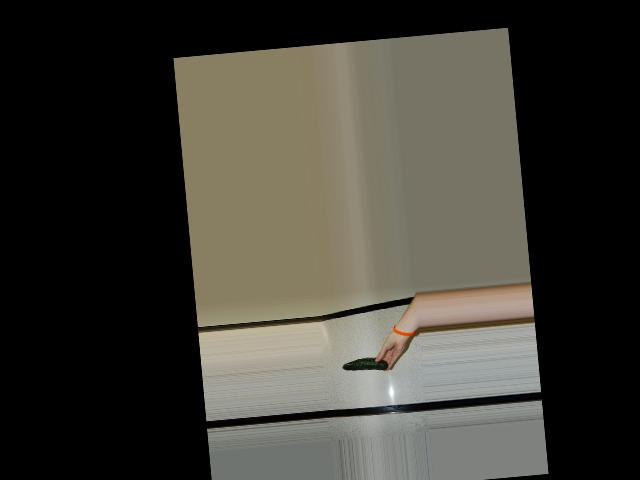cucumber: (341, 356, 389, 374)
